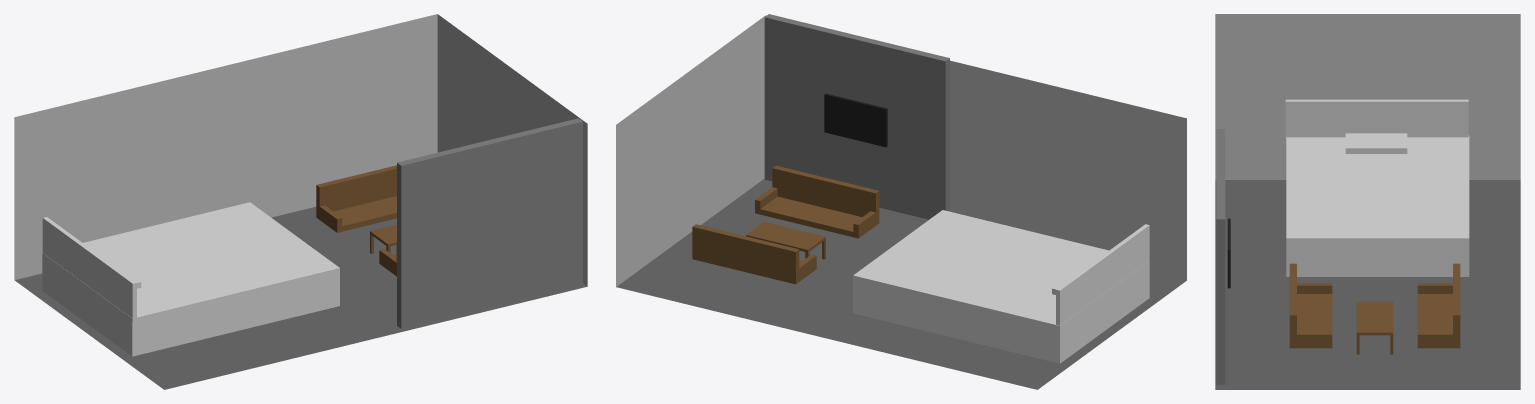
Rendered from room4.glb.
3 renders of one model, left to right at view 1: azimuth 30°, elevation 25°; view 2: azimuth 150°, elevation 25°; view 3: azimuth 270°, elevation 25°, orthographic. The views are drawn at different scales.
Visible parts, largest first — view 1: walls, partition_a, Bed, floor, Sofa, BedHead; view 2: walls, partition_a, Bed, floor, Sofa, BedHead, led_tv; view 3: floor, walls, Bed, Sofa, BedHead, partition_a, Pillow, led_tv.
Part boxes in pixels (x1,y1,x2,y2): walls: [14, 14, 587, 286]; partition_a: [397, 118, 582, 328]; Bed: [42, 202, 339, 356]; floor: [15, 206, 587, 389]; Sofa: [316, 165, 396, 276]; BedHead: [42, 217, 136, 321]; walls: [616, 15, 1186, 286]; partition_a: [764, 14, 949, 219]; Bed: [853, 210, 1149, 363]; floor: [616, 178, 1186, 389]; Sofa: [692, 165, 879, 284]; BedHead: [1056, 224, 1149, 325]; led_tv: [824, 93, 887, 147]; floor: [1215, 180, 1520, 389]; walls: [1215, 14, 1520, 179]; Bed: [1286, 135, 1469, 276]; Sofa: [1289, 263, 1460, 354]; BedHead: [1285, 99, 1468, 139]; partition_a: [1216, 129, 1225, 384]; Pillow: [1345, 133, 1407, 153]; led_tv: [1227, 218, 1230, 288].
Bounding box in the file's own units: 8.15 × 3.05 × 5.
